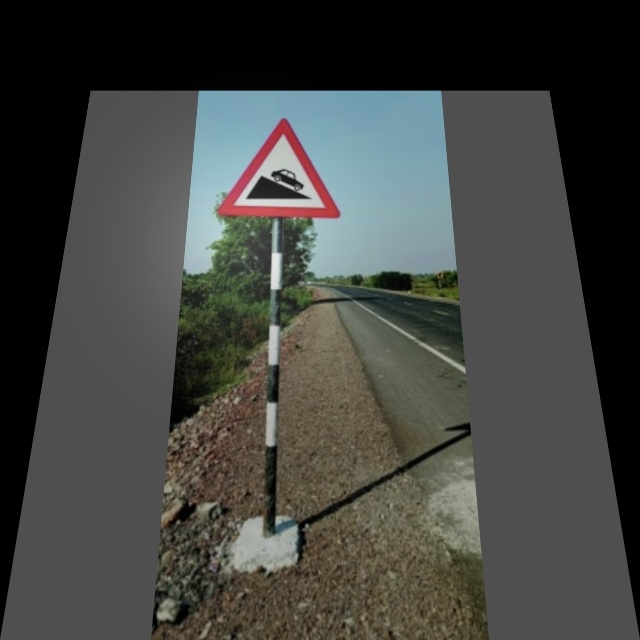Steep_Descent: (220, 119, 339, 223)
